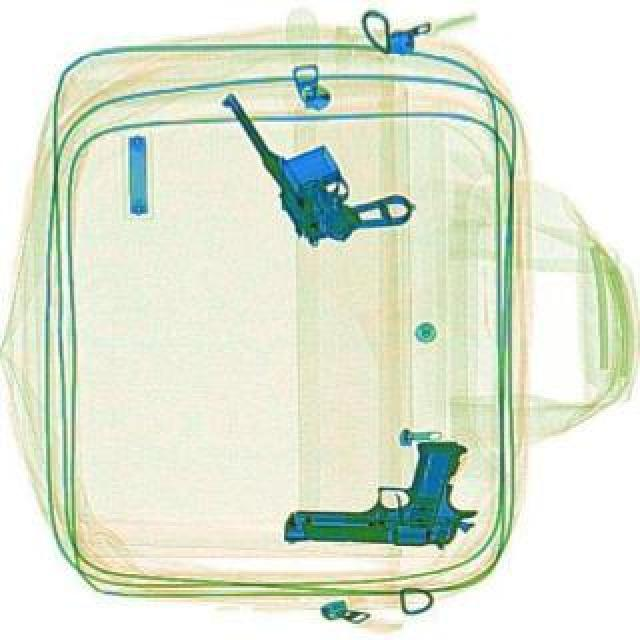gun: (216, 50, 416, 266), (278, 436, 478, 548)
